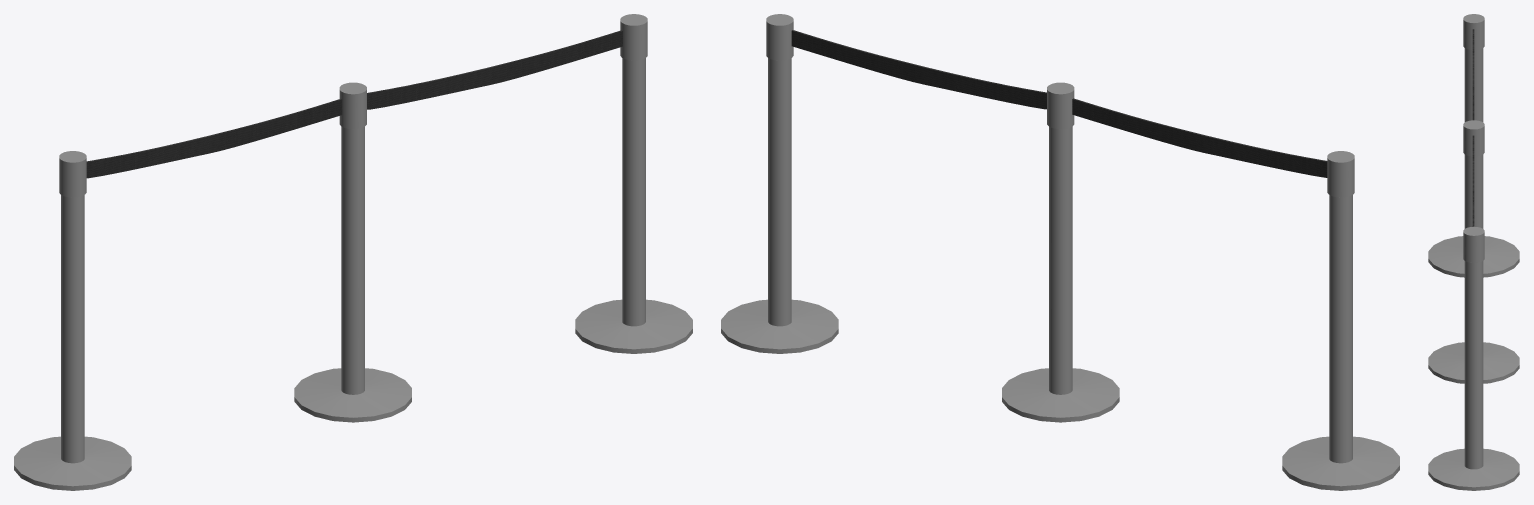
The model's file is Fence.fbx.
The picture shows the model from 3 angles, left to right: view 1: azimuth 30°, elevation 25°; view 2: azimuth 150°, elevation 25°; view 3: azimuth 270°, elevation 25°; orthographic projection. The views are drawn at different scales.
Parts seen in each view (by area): view 1: Fence; view 2: Fence; view 3: Fence.
Part boxes in pixels (x1,y1,x2,y2): Fence: (14,14,692,490); Fence: (721,14,1399,490); Fence: (1428,14,1519,490).
Size of the model in its own units: 177 by 78.62 by 27.15.
2 materials, 1 textured.
